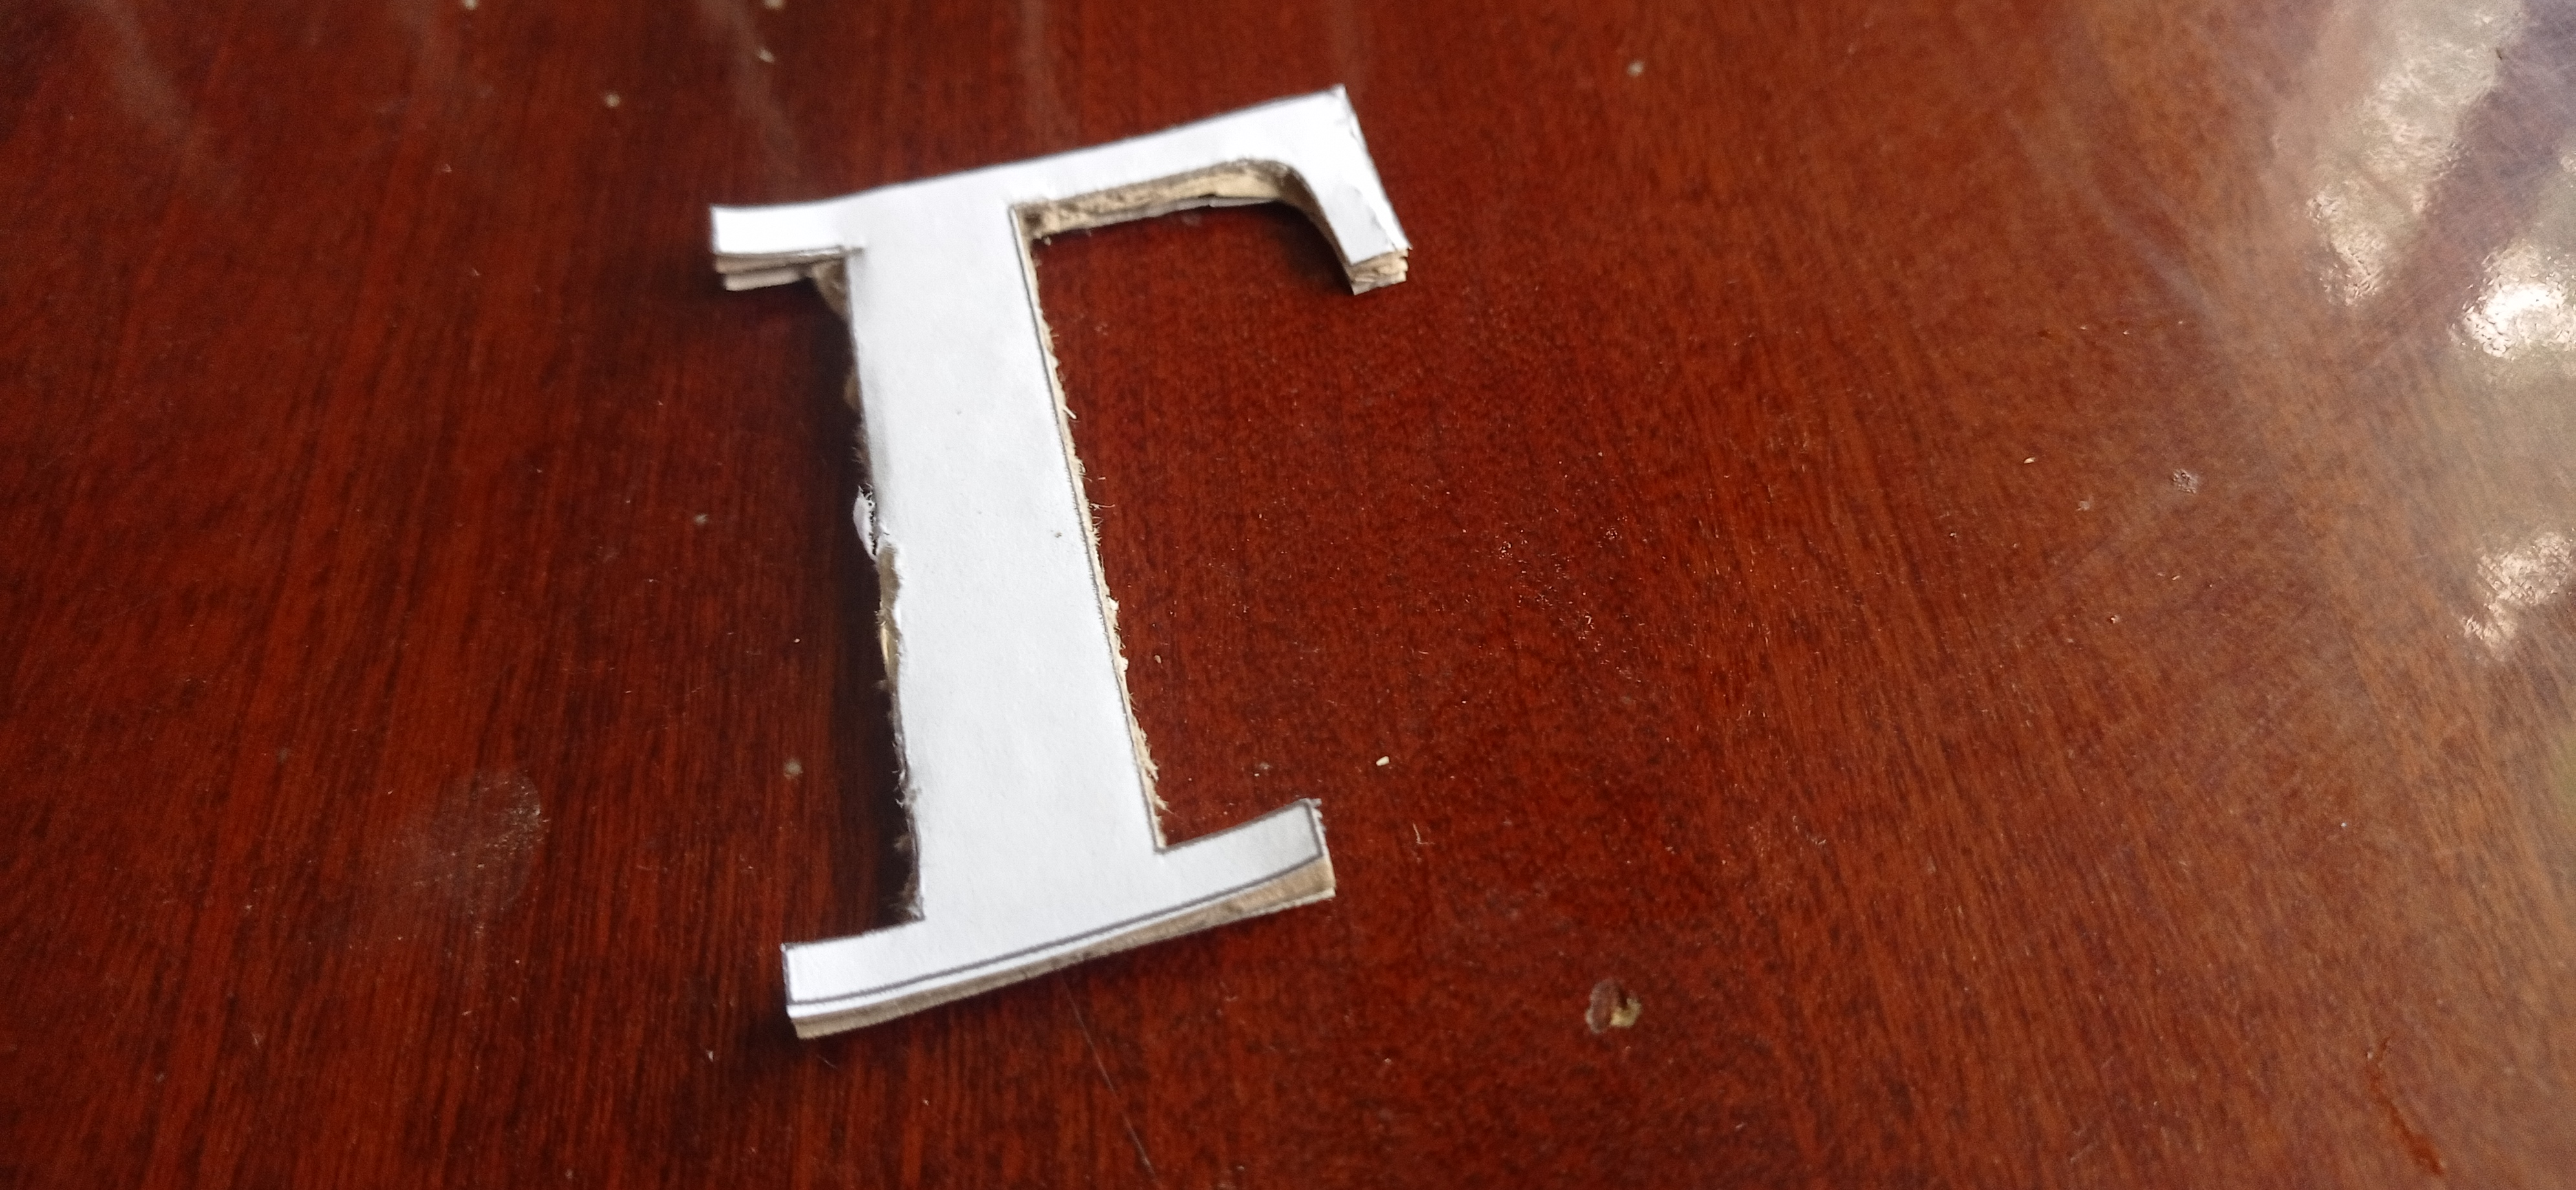g: (713, 87, 1416, 1039)
